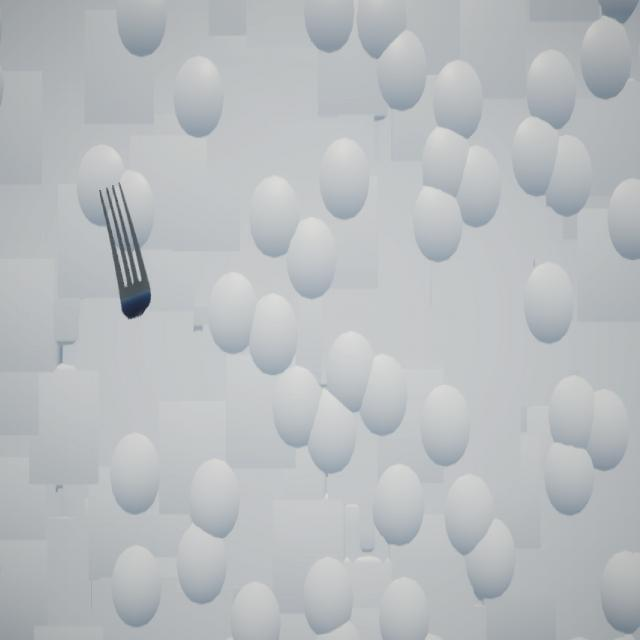top_folk: (100, 184, 152, 321)
